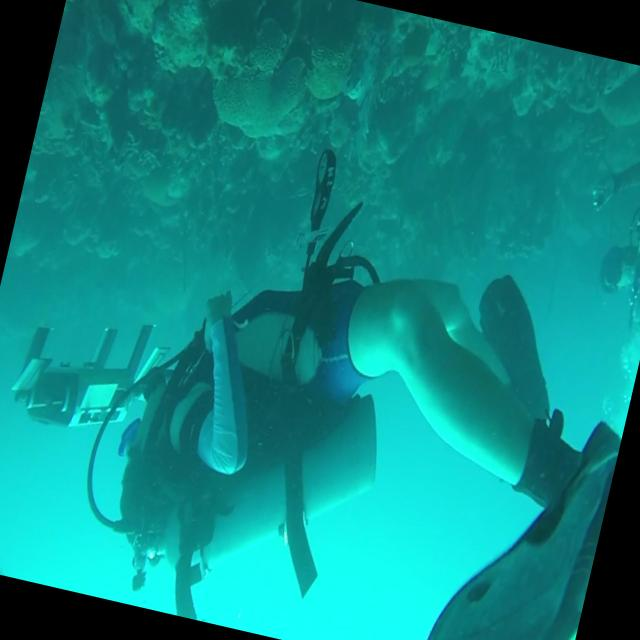human: (65, 114, 640, 640), (561, 143, 640, 340)
